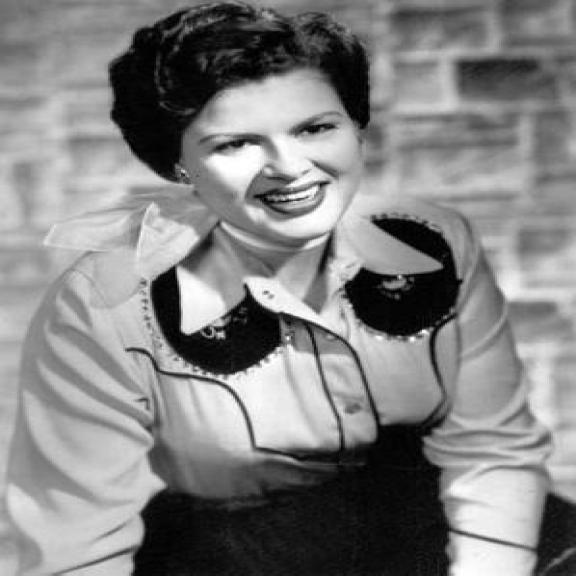face: (156, 66, 374, 241)
